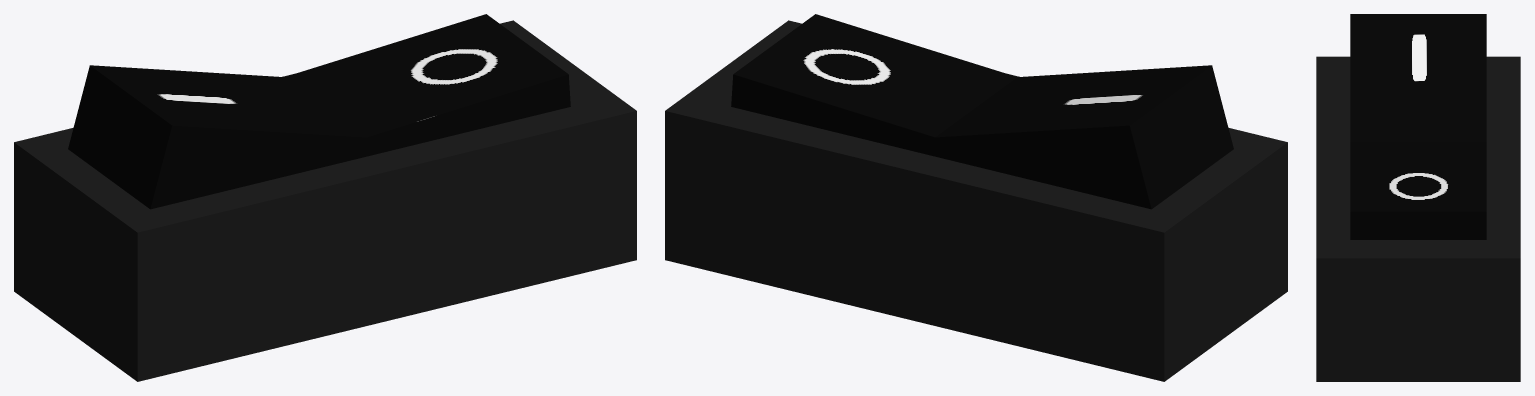
File: ToggleSwitch1.fbx
3 views of the same model, side by side, from view 1: azimuth 30°, elevation 25°; view 2: azimuth 150°, elevation 25°; view 3: azimuth 270°, elevation 25° (orthographic). The views are drawn at different scales.
Visible parts, largest first — view 1: pCube1, pCube2, pCube3; view 2: pCube1, pCube2, pCube3; view 3: pCube1, pCube2, pCube3.
Part boxes in pixels (box(x1,y1,x2,y2)): pCube1: box(14, 20, 636, 381); pCube2: box(68, 65, 404, 209); pCube3: box(284, 14, 570, 175); pCube1: box(665, 20, 1287, 381); pCube2: box(873, 65, 1233, 209); pCube3: box(731, 14, 1017, 176); pCube1: box(1316, 56, 1520, 381); pCube2: box(1350, 14, 1486, 141); pCube3: box(1350, 141, 1486, 239).
Size of the model in its own units: 3.5 by 1.53 by 1.5.
3 materials, 2 textured.
